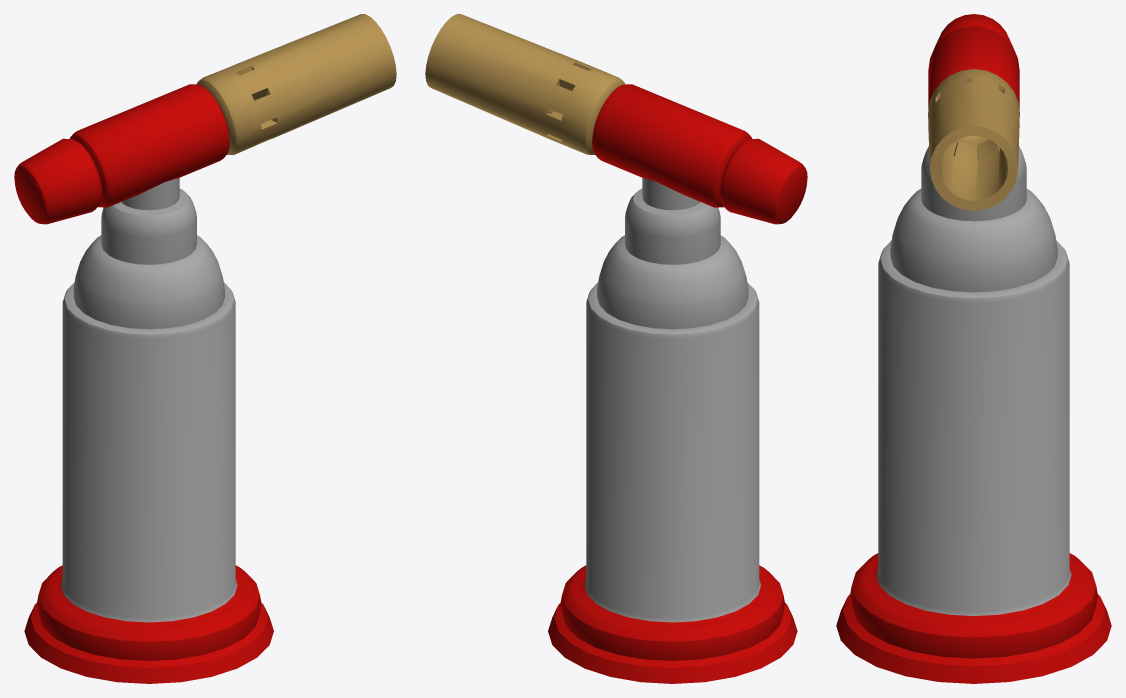
File: purmuz.3.fbx
3 views of the same model, side by side, from view 1: azimuth 30°, elevation 25°; view 2: azimuth 150°, elevation 25°; view 3: azimuth 270°, elevation 25° (orthographic). The views are drawn at different scales.
Parts seen in each view (by area): view 1: Cylinder.015; view 2: Cylinder.015; view 3: Cylinder.015.
Boxes of the visible parts, left/top/right/bottom form: Cylinder.015: left=14, top=14, right=396, bottom=683; Cylinder.015: left=425, top=14, right=807, bottom=683; Cylinder.015: left=836, top=14, right=1111, bottom=683.
Size of the model in its own units: 1.78 by 2.67 by 1.08.
